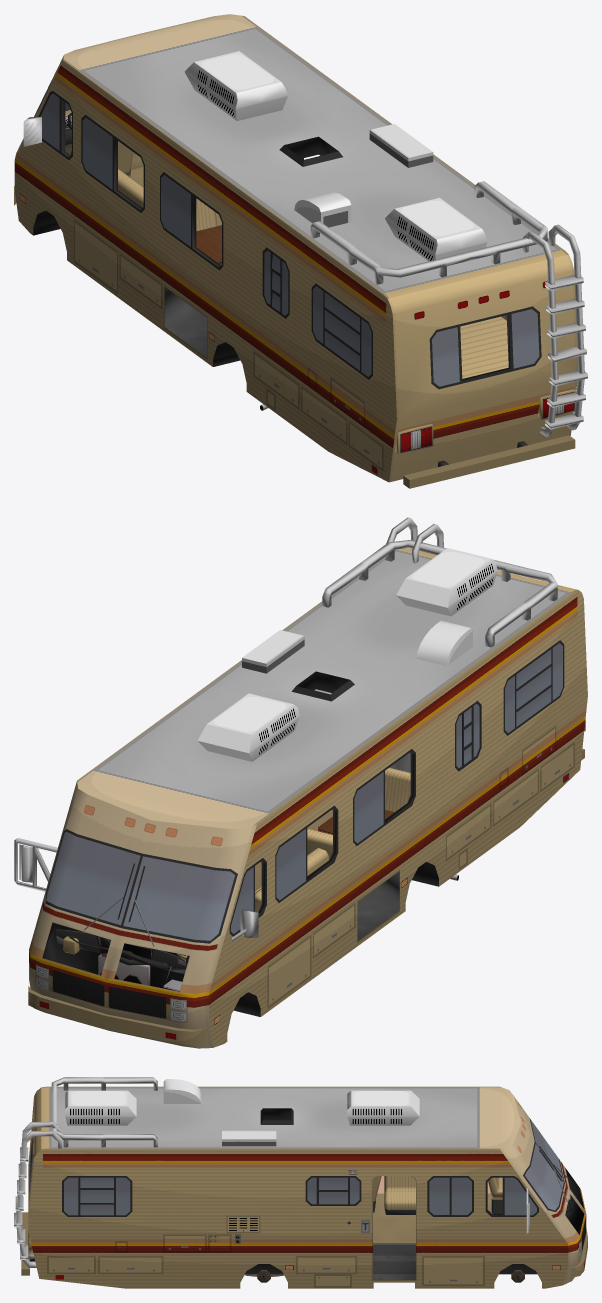
The model's file is Vehicles_fl_bounder_86.fbx.
The picture shows the model from 3 angles, top to bottom: view 1: azimuth 30°, elevation 25°; view 2: azimuth 150°, elevation 25°; view 3: azimuth 270°, elevation 25°; orthographic projection. The views are drawn at different scales.
Parts seen in each view (by area): view 1: body, windowrearrightstatic, bumperrear, seatbed, windowmidleftstatic, trunkstatic, windowrearleftstatic, windowfrontleftstatic; view 2: body, windshield, bumperfront, windowrearrightstatic, trunkstatic, windowrearleftstatic, windowmidleftstatic, seatrearleft, windowfrontleftstatic; view 3: body, trunkstatic, windowrearrightstatic, windshield, seatmidright, windowfrontrightstatic, seatfront, bumperfront, bumperrear.
Part boxes in pixels (bbox=[...]): body: bbox=[14, 14, 587, 482]; windowrearrightstatic: bbox=[313, 286, 539, 386]; bumperrear: bbox=[403, 435, 575, 488]; seatbed: bbox=[460, 316, 508, 378]; windowmidleftstatic: bbox=[82, 117, 112, 189]; trunkstatic: bbox=[331, 379, 382, 469]; windowrearleftstatic: bbox=[161, 175, 190, 246]; windowfrontleftstatic: bbox=[40, 93, 59, 150]; body: bbox=[14, 517, 587, 1048]; windshield: bbox=[46, 831, 234, 940]; bumperfront: bbox=[28, 986, 205, 1045]; windowrearrightstatic: bbox=[505, 643, 562, 732]; trunkstatic: bbox=[522, 727, 573, 790]; windowrearleftstatic: bbox=[354, 772, 383, 843]; windowmidleftstatic: bbox=[276, 829, 305, 900]; seatrearleft: bbox=[385, 767, 410, 811]; windowfrontleftstatic: bbox=[231, 867, 253, 933]; body: bbox=[14, 1077, 586, 1288]; trunkstatic: bbox=[48, 1256, 483, 1285]; windowrearrightstatic: bbox=[29, 1138, 130, 1215]; windshield: bbox=[525, 1120, 563, 1210]; seatmidright: bbox=[384, 1176, 415, 1214]; windowfrontrightstatic: bbox=[504, 1177, 536, 1215]; seatfront: bbox=[488, 1177, 502, 1213]; bumperfront: bbox=[571, 1228, 587, 1277]; bumperrear: bbox=[21, 1212, 29, 1275].
Bounding box in the file's own units: 331 × 299 × 944.
